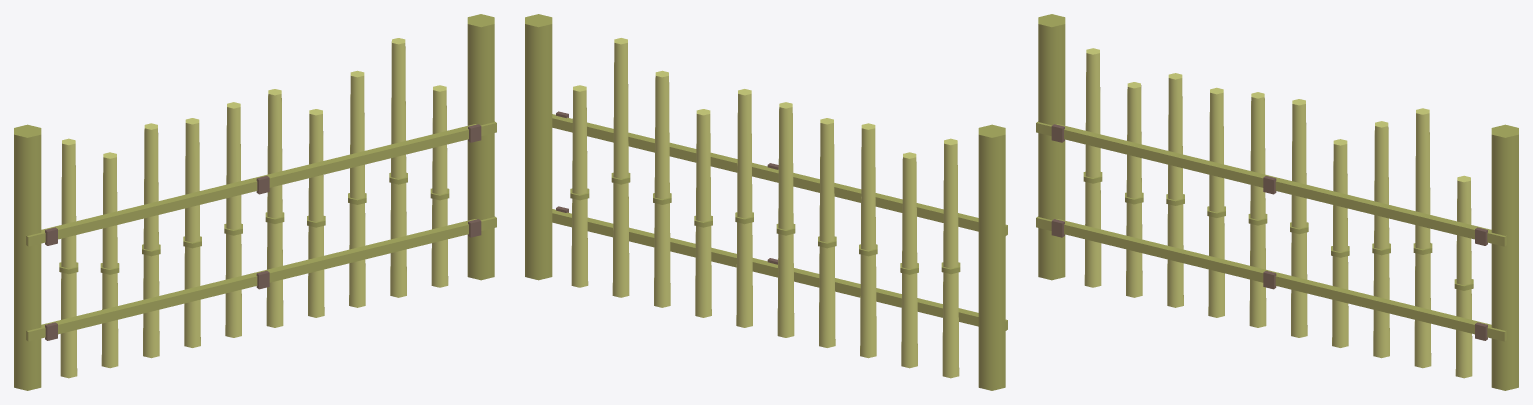
The model's file is prop_tc_hang_rao_tre_2.9fc10331ff.glb.
The picture shows the model from 3 angles, left to right: view 1: azimuth 30°, elevation 25°; view 2: azimuth 150°, elevation 25°; view 3: azimuth 330°, elevation 25°; orthographic projection.
Parts seen in each view (by area): view 1: prop_tc_hang_rao_tre_2; view 2: prop_tc_hang_rao_tre_2; view 3: prop_tc_hang_rao_tre_2.
Boxes of the visible parts, bbox=[...] form: prop_tc_hang_rao_tre_2: bbox=[14, 14, 496, 390]; prop_tc_hang_rao_tre_2: bbox=[525, 14, 1007, 390]; prop_tc_hang_rao_tre_2: bbox=[1036, 14, 1518, 390].
Size of what is drawn, in the model's own units: 3.18 by 1.6 by 0.1929.
